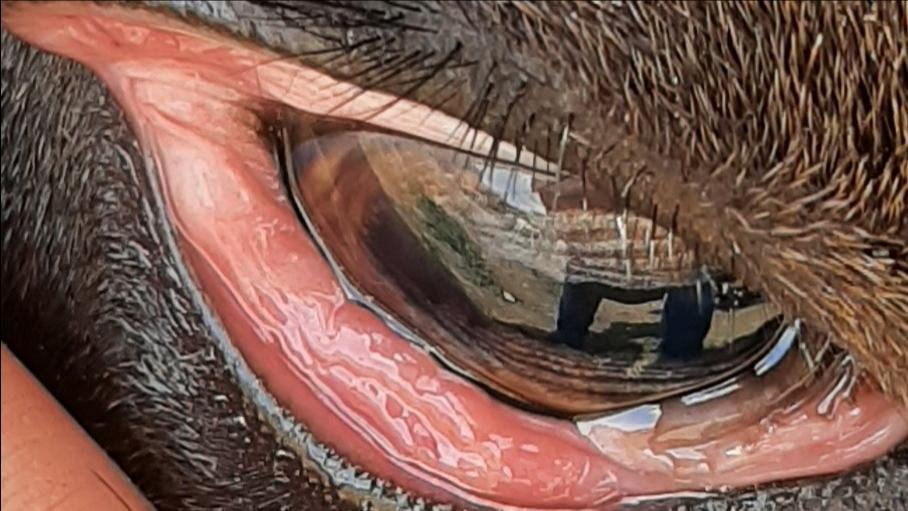eye_membrane: (0, 4, 908, 507)
